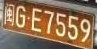G: (16, 6, 25, 28)
